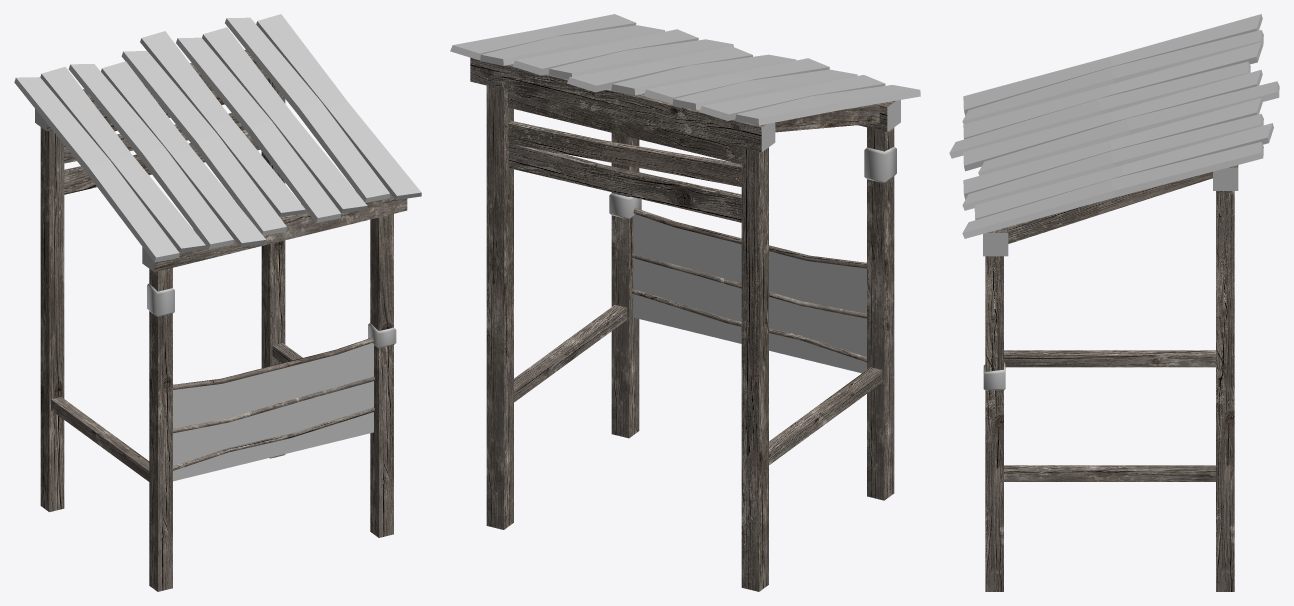
File: Stall3.fbx
3 renders of one model, left to right at view 1: azimuth 30°, elevation 25°; view 2: azimuth 150°, elevation 25°; view 3: azimuth 270°, elevation 25°, orthographic. The views are drawn at different scales.
Visible parts, largest first — view 1: polySurface2447; view 2: polySurface2447; view 3: polySurface2447.
Part boxes in pixels (<box>): polySurface2447: <box>14,14,421,591</box>; polySurface2447: <box>450,14,920,591</box>; polySurface2447: <box>949,14,1279,591</box>.
Bounding box in the file's own units: 3.2 × 4.87 × 3.22.
